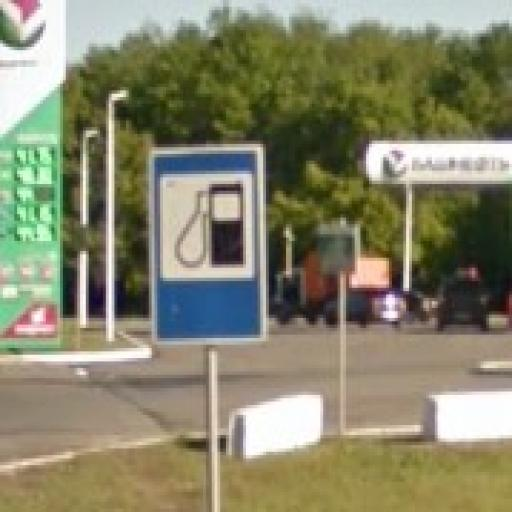traffic_sign: (150, 145, 270, 346)
